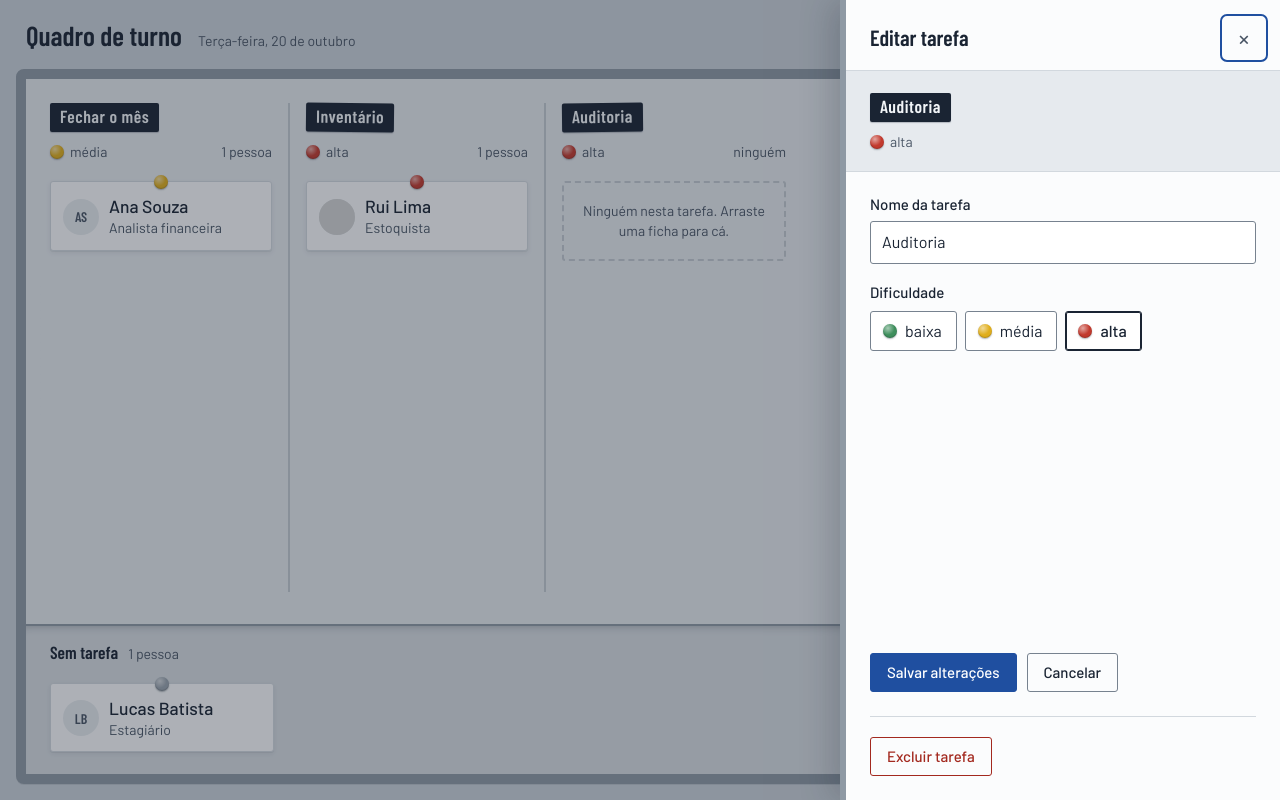
Test: excluir › tarefa vazia: exclui e a coluna some
The image size is (1280, 800).
Click the button "Excluir tarefa": (931, 756) [870,737,992,776]
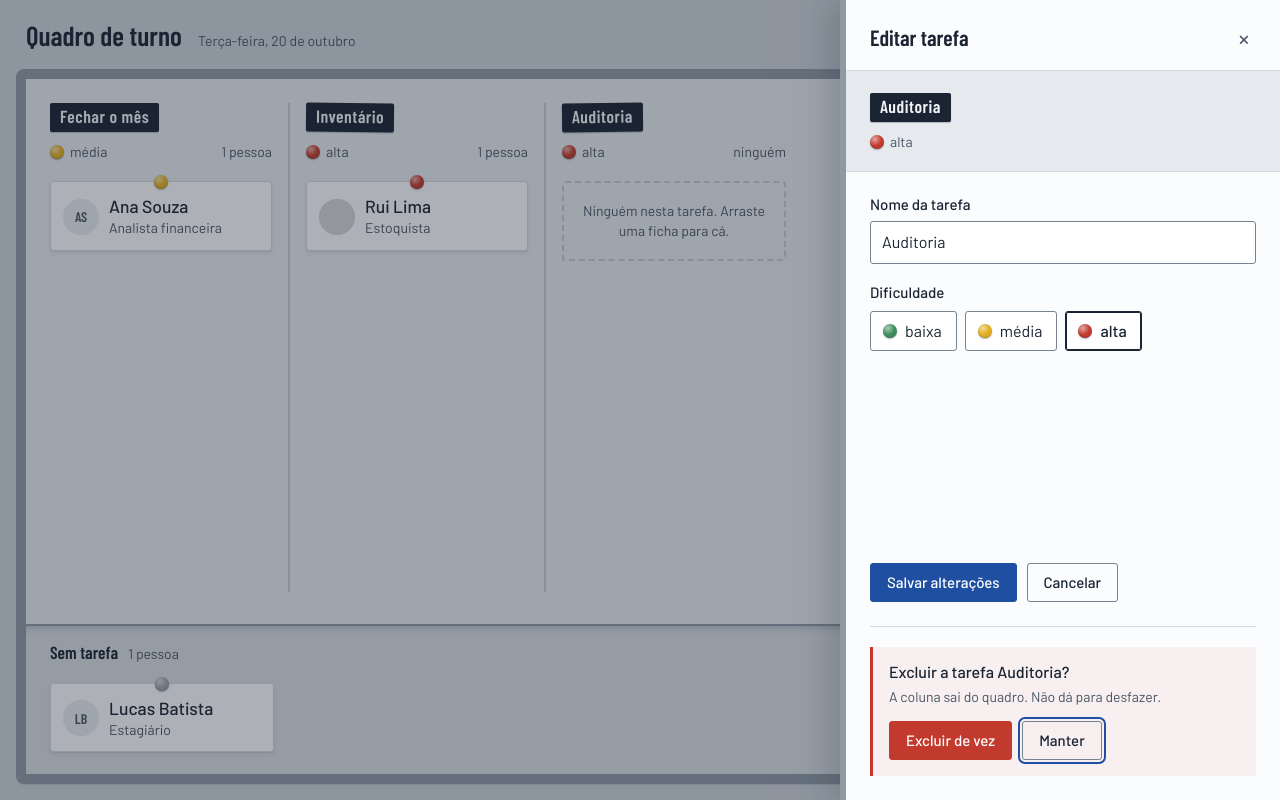
Click the button "Excluir de vez": (951, 740) [889,721,1012,760]
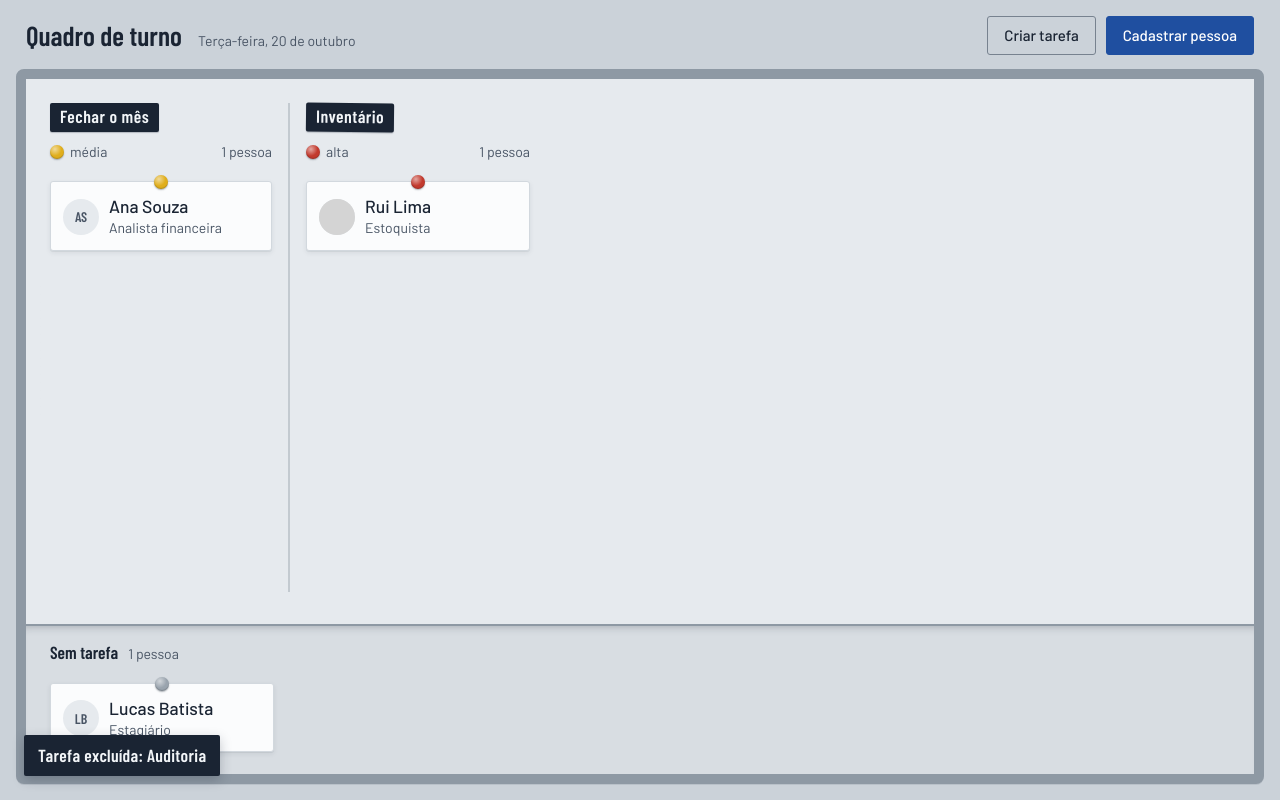
Check: the text "Tarefa excluída: Auditoria" is shown, box [24,734,220,776]
